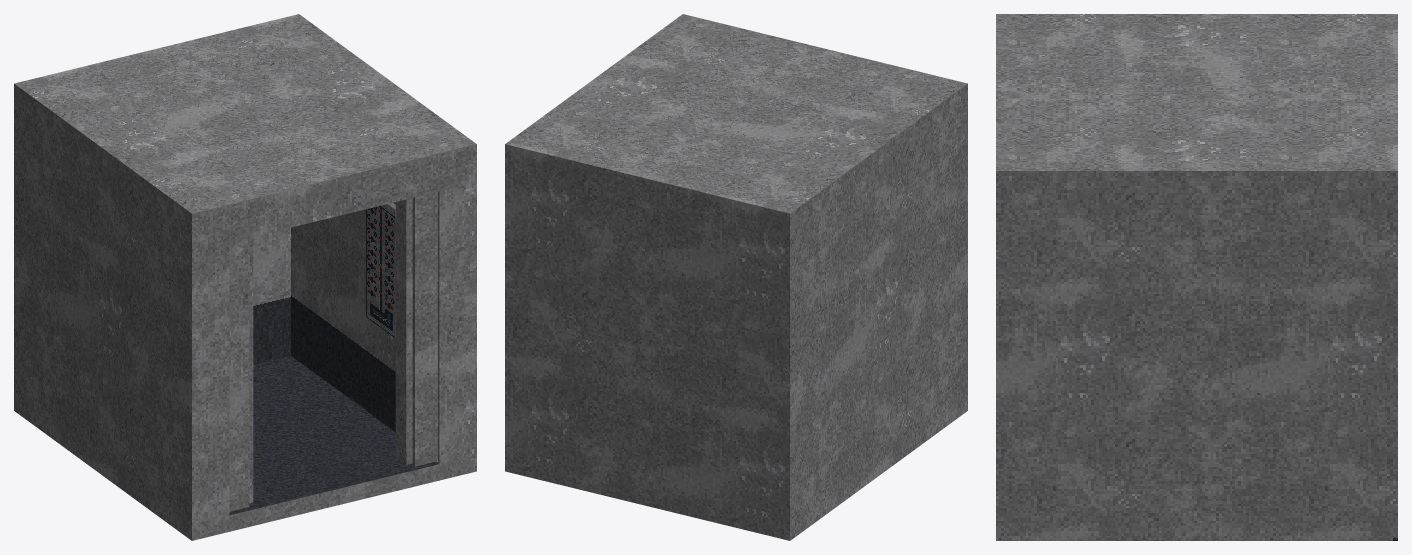
Rendered from Lift.gltf.
The picture shows the model from 3 angles, left to right: view 1: azimuth 30°, elevation 25°; view 2: azimuth 150°, elevation 25°; view 3: azimuth 270°, elevation 25°; orthographic projection. The views are drawn at different scales.
Parts seen in each view (by area): view 1: Lift_body, Lift_door_outer_R, Lift_door_outer_L, Lift_door_inner_R, Controls, Lift_door_inner_L; view 2: Lift_body; view 3: Lift_body.
Boxes of the visible parts, left/top/right/bottom form: Lift_body: left=14, top=14, right=476, bottom=540; Lift_door_outer_R: left=412, top=192, right=437, bottom=466; Lift_door_outer_L: left=229, top=238, right=249, bottom=511; Lift_door_inner_R: left=395, top=198, right=412, bottom=464; Controls: left=366, top=203, right=395, bottom=338; Lift_door_inner_L: left=249, top=237, right=253, bottom=503; Lift_body: left=505, top=14, right=967, bottom=540; Lift_body: left=996, top=14, right=1397, bottom=540.
Size of what is drawn, in the model's own units: 2.25 by 2.47 by 2.43.
1 material, 1 textured.
